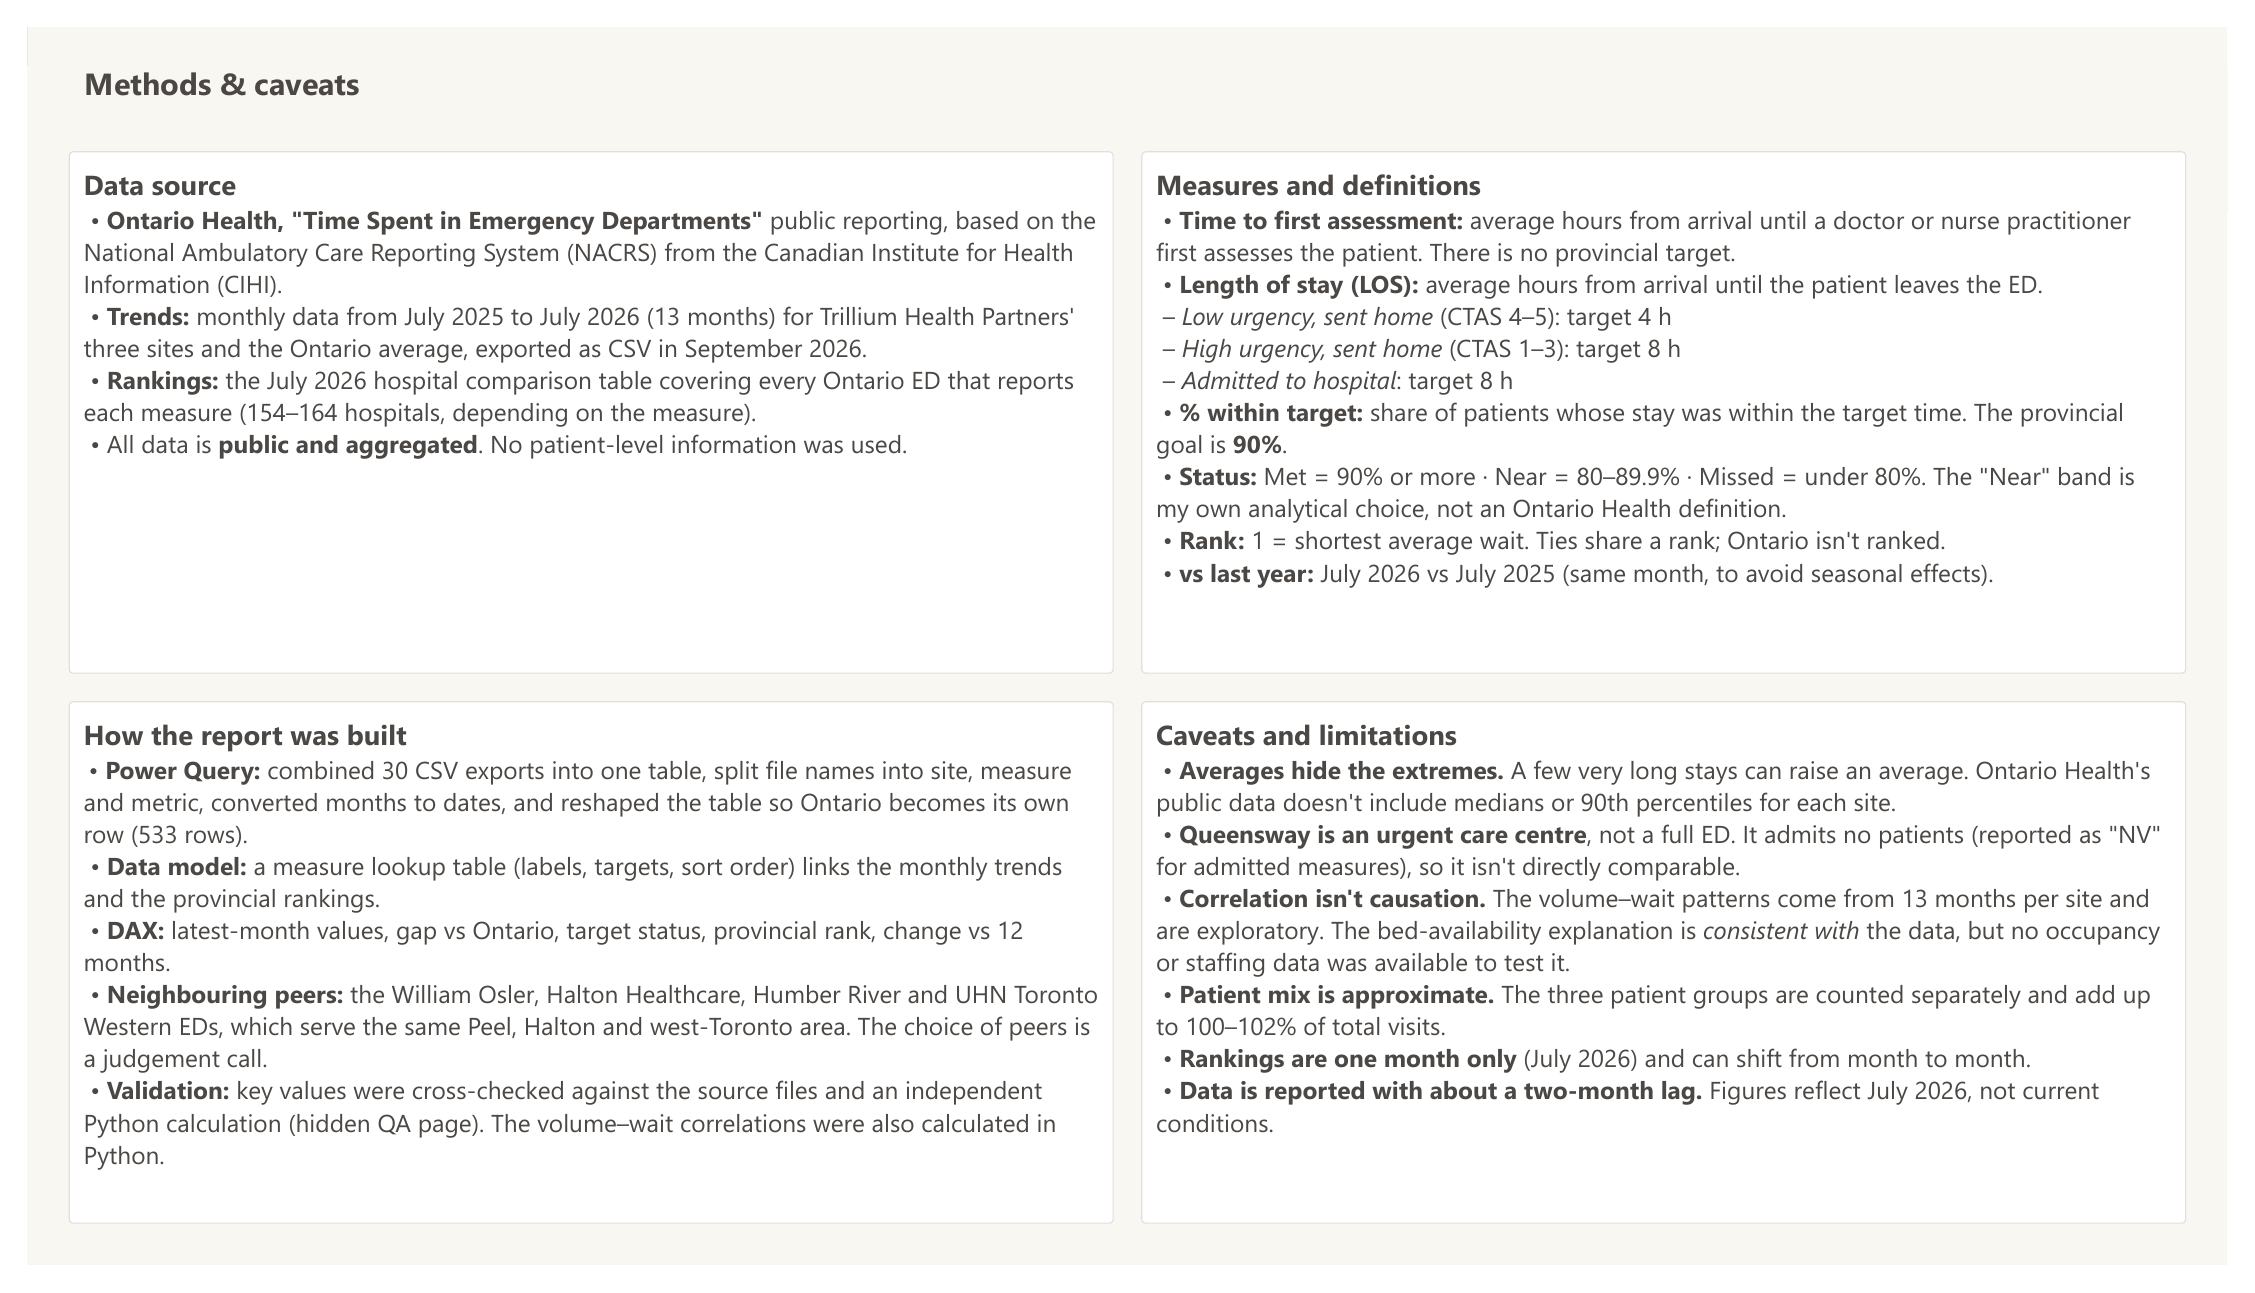

This screenshot's page, from the dashboard's own definition file:
{"tool":"powerbi","page":{"name":"Methods & caveats","canvas":[1920,1080],"ordinal":4},"visuals":[{"type":"textbox","box":[36,18,900,60],"z":0},{"type":"textbox","box":[36,108,912,456],"z":1000},{"type":"textbox","box":[972,108,912,456],"z":2000},{"type":"textbox","box":[36,588,912,456],"z":3000},{"type":"textbox","box":[972,588,912,456],"z":4000}]}

Visuals, with their boxes in screenshot pixels (x1, y1, x2, y2), scaled from the page's 1920x1080 canvas onto the 2255x1293 screenshot:
textbox: select_region(42, 22, 1099, 93)
textbox: select_region(42, 129, 1113, 675)
textbox: select_region(1142, 129, 2213, 675)
textbox: select_region(42, 704, 1113, 1250)
textbox: select_region(1142, 704, 2213, 1250)
